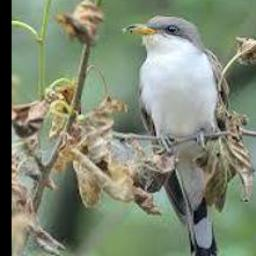Cuckoo: (122, 14, 228, 256)
